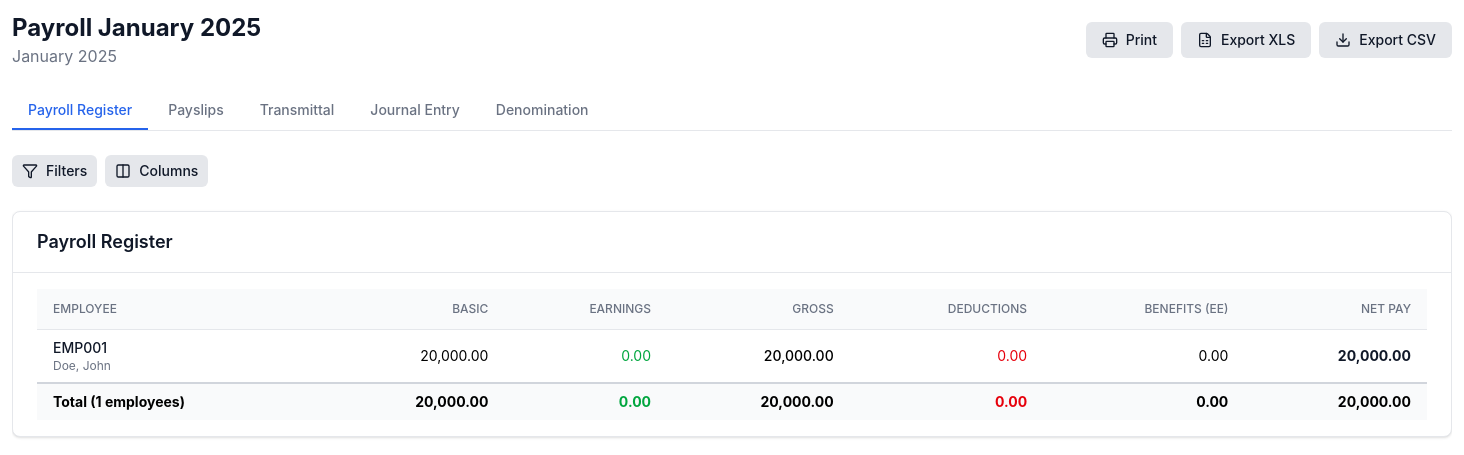
Test: PayrollOutputView › switches to transmittal mode when Transmittal tab is clicked
Click the button "Transmittal".
click(297, 111)  # box [244,92,350,130]
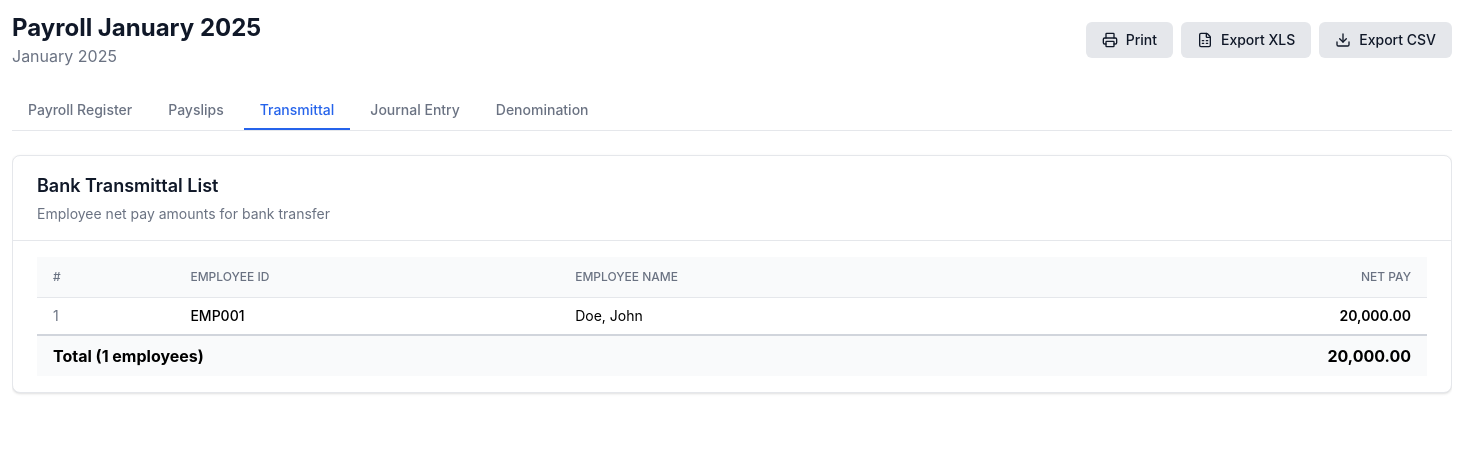
Result: the heading "Bank Transmittal List" is shown at [37,175,218,196]
